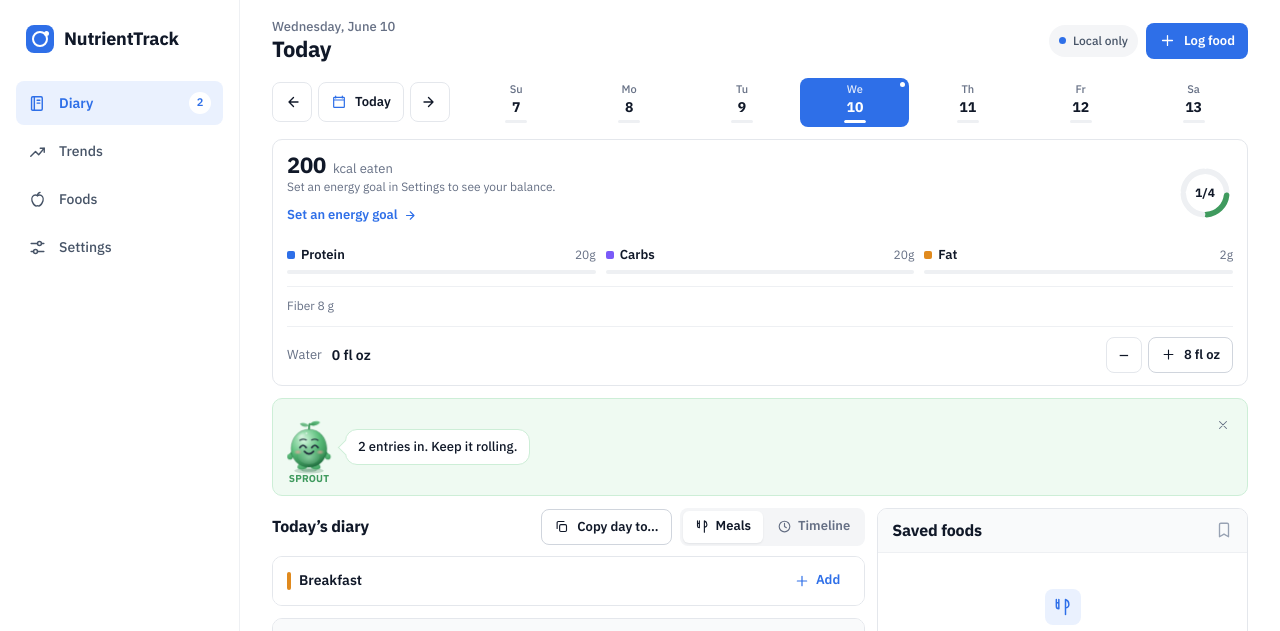
Nutrient contributors panel › reports_not_recorded_foods_instead_of_counting_them_as_zero
Click the button "Trends" at (120,151), box [16,129,223,173]
(page scrolled)
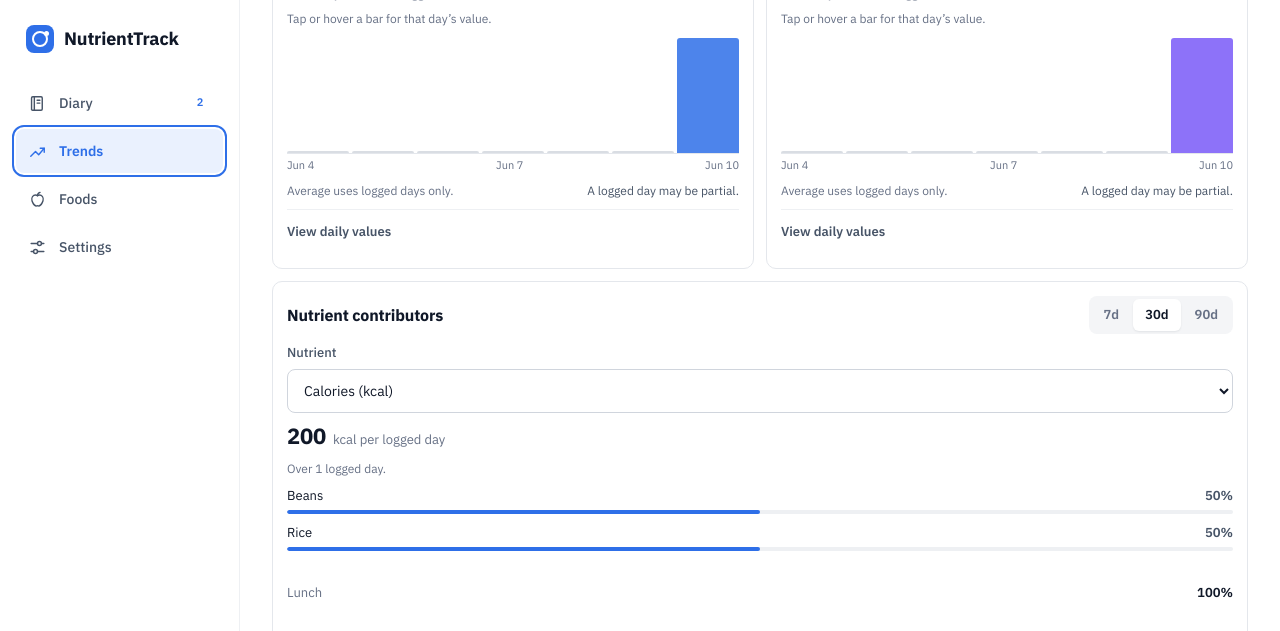
Select "Fiber (g)" in the dropdown labelled "Nutrient" at (760,391), box [287,369,1233,413]
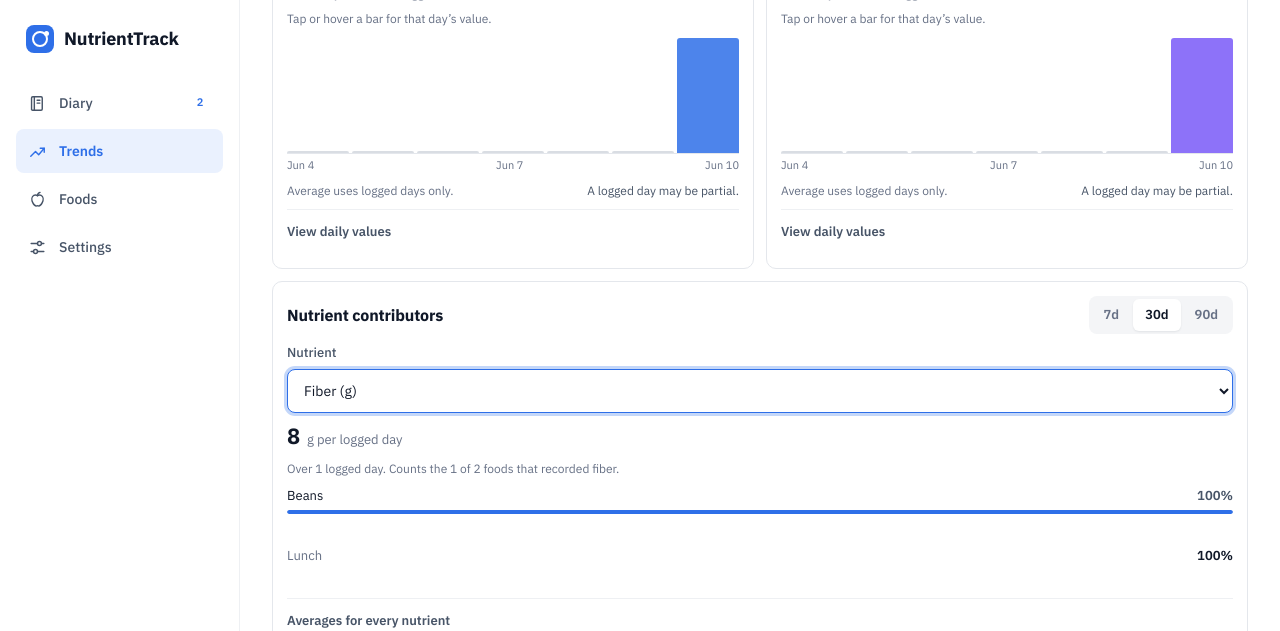
Check: the element with class "contributor-average" reads "8 g per logged day", box [287,421,403,450]
Check: the element "Nutrient contributors" shows "Counts the 1 of 2 foods that recorded fiber.", box [386,460,619,476]
Check: the text "Rice" is gone
